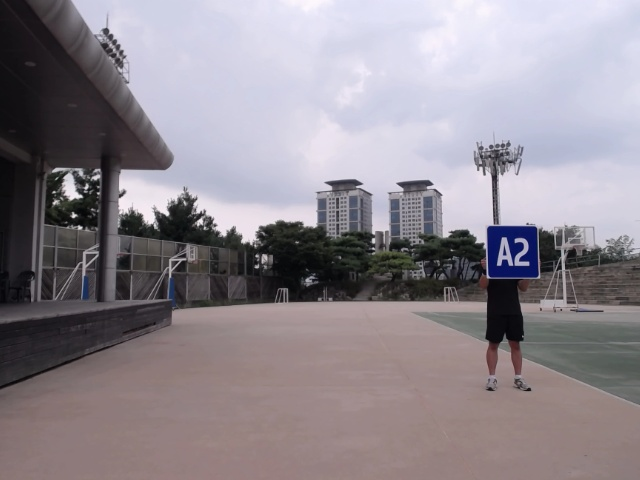delivery_a2: (487, 225, 539, 279)
